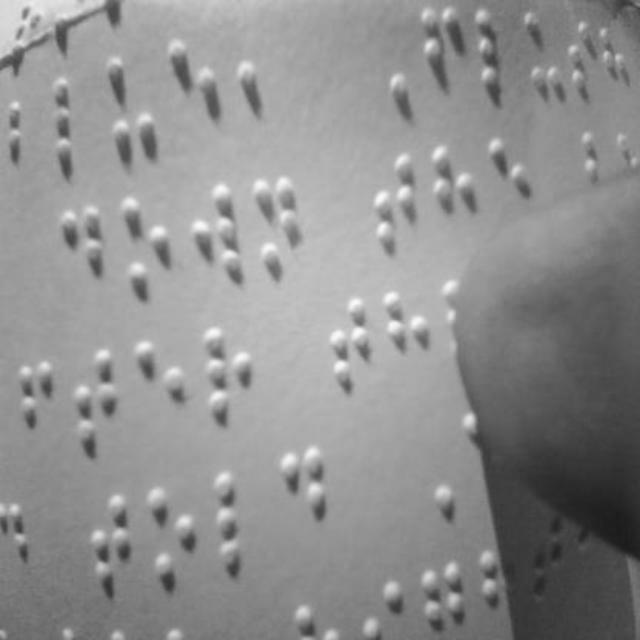braiile: (164, 30, 222, 156), (233, 19, 289, 149), (274, 446, 334, 564), (100, 51, 164, 161), (185, 174, 245, 290), (198, 322, 258, 438), (211, 468, 271, 582), (425, 139, 481, 259), (142, 477, 198, 595), (71, 339, 123, 465), (486, 132, 540, 252), (252, 167, 304, 291), (46, 74, 106, 178), (381, 278, 433, 398), (136, 333, 188, 451), (82, 488, 134, 604), (371, 148, 421, 262), (118, 192, 168, 304), (4, 92, 54, 202), (16, 362, 68, 466), (419, 3, 471, 106), (324, 294, 372, 404), (58, 210, 108, 306), (474, 3, 520, 106), (522, 3, 570, 101), (572, 7, 604, 91)
